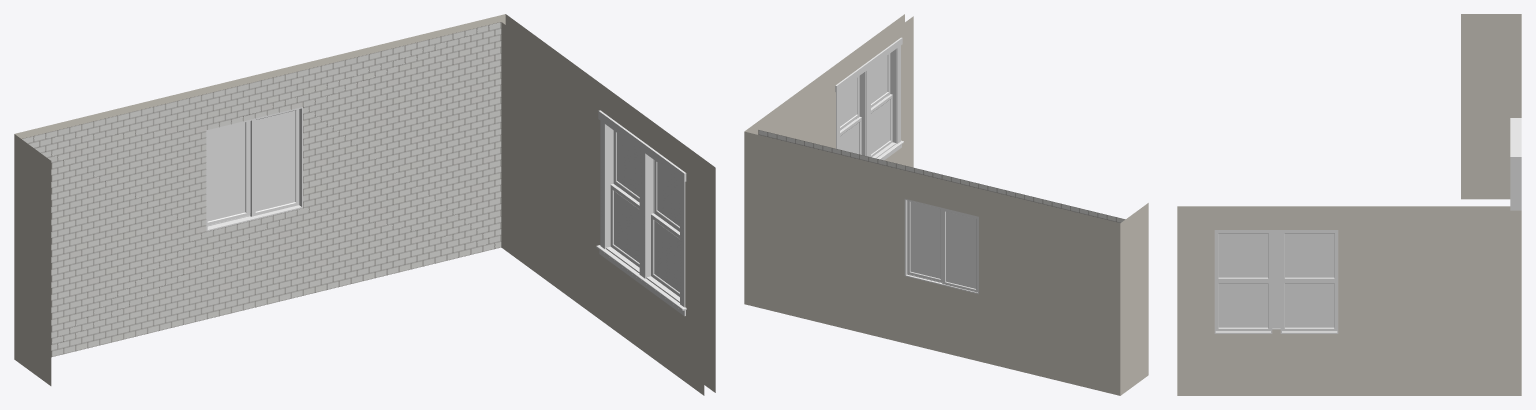
Rendered from WindowTrim02.fbx.
The picture shows the model from 3 angles, left to right: view 1: azimuth 30°, elevation 25°; view 2: azimuth 150°, elevation 25°; view 3: azimuth 270°, elevation 25°; orthographic projection. The views are drawn at different scales.
Parts seen in each view (by area): view 1: Backsplash, Painted_Walls, ExteriorWalls, Window3050SH03, WindowTrim02, Window3050SH01, Window3050SH02; view 2: ExteriorWalls, Painted_Walls, Window3050SH03, Window3050SH02, Backsplash, WindowTrim02, Window3050SH01; view 3: ExteriorWalls, Painted_Walls, Window3050SH01, Window3050SH02, Window3050SH03, WindowTrim02.
Boxes of the visible parts, x1,y1,x2,y2 form: Backsplash: (22,22,501,357); Painted_Walls: (27,22,704,395); ExteriorWalls: (14,14,715,392); Window3050SH03: (206,107,302,231); WindowTrim02: (596,110,686,316); Window3050SH01: (606,125,639,273); Window3050SH02: (646,154,679,302); ExteriorWalls: (744,14,1148,395); Painted_Walls: (758,16,1148,391); Window3050SH03: (904,199,978,294); Window3050SH02: (871,49,896,158); Backsplash: (758,130,1125,223); WindowTrim02: (835,37,903,160); Window3050SH01: (840,71,865,155); ExteriorWalls: (1177,14,1521,395); Painted_Walls: (1177,14,1510,333); Window3050SH01: (1280,230,1338,333); Window3050SH02: (1214,230,1272,333); Window3050SH03: (1510,118,1521,210); WindowTrim02: (1272,230,1280,329).
Bounding box in the file's own units: 1588 × 697 × 1174.
